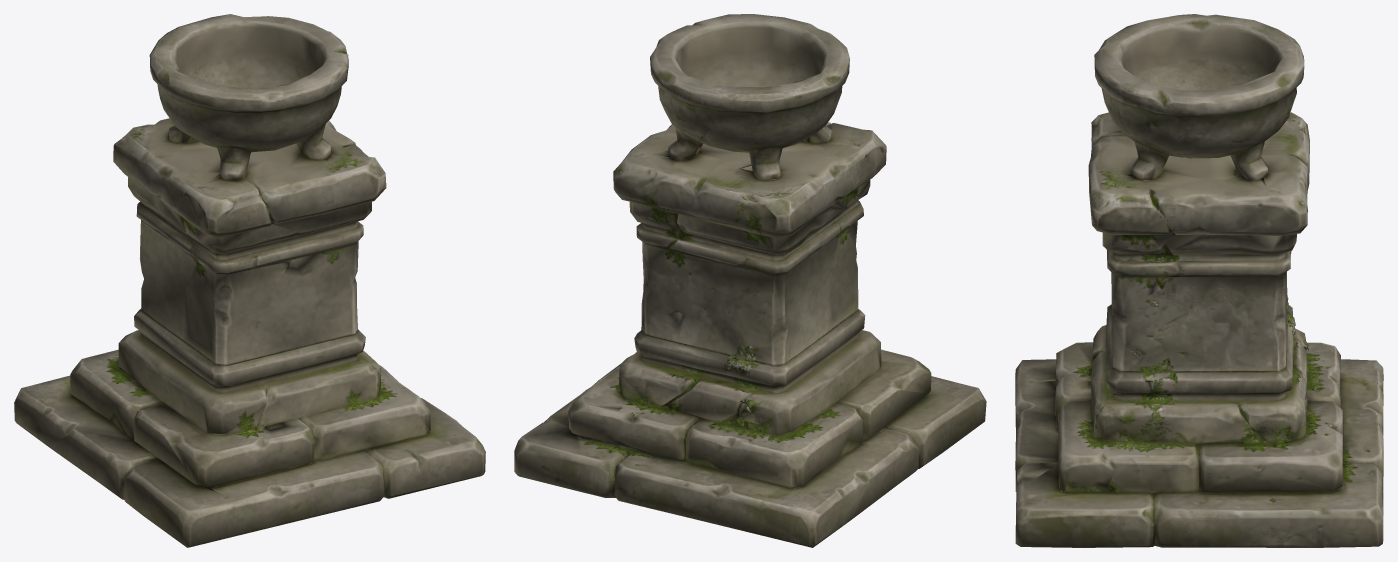
File: ShrineCore.gltf
3 renders of one model, left to right at view 1: azimuth 30°, elevation 25°; view 2: azimuth 150°, elevation 25°; view 3: azimuth 270°, elevation 25°, orthographic. The views are drawn at different scales.
Visible parts, largest first — view 1: lo; view 2: lo; view 3: lo.
Part boxes in pixels (<box>): lo: <box>14,14,485,547</box>; lo: <box>514,14,986,547</box>; lo: <box>1015,14,1383,547</box>.
Bounding box in the file's own units: 1.52 × 1.89 × 1.51.
Materials: 1 (1 with a texture image).
